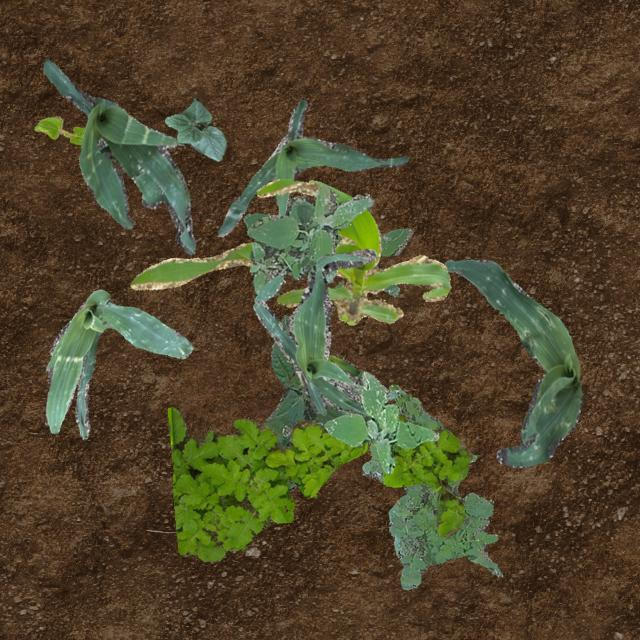crop: (128, 178, 450, 324), (42, 59, 195, 252), (442, 258, 582, 468), (216, 97, 408, 235), (44, 288, 192, 438), (252, 248, 376, 418), (262, 314, 358, 491), (286, 280, 362, 384), (163, 96, 224, 160), (34, 115, 84, 144)
weed: (167, 406, 470, 560), (362, 384, 502, 588), (243, 196, 412, 296), (245, 185, 374, 302), (323, 370, 438, 472)
